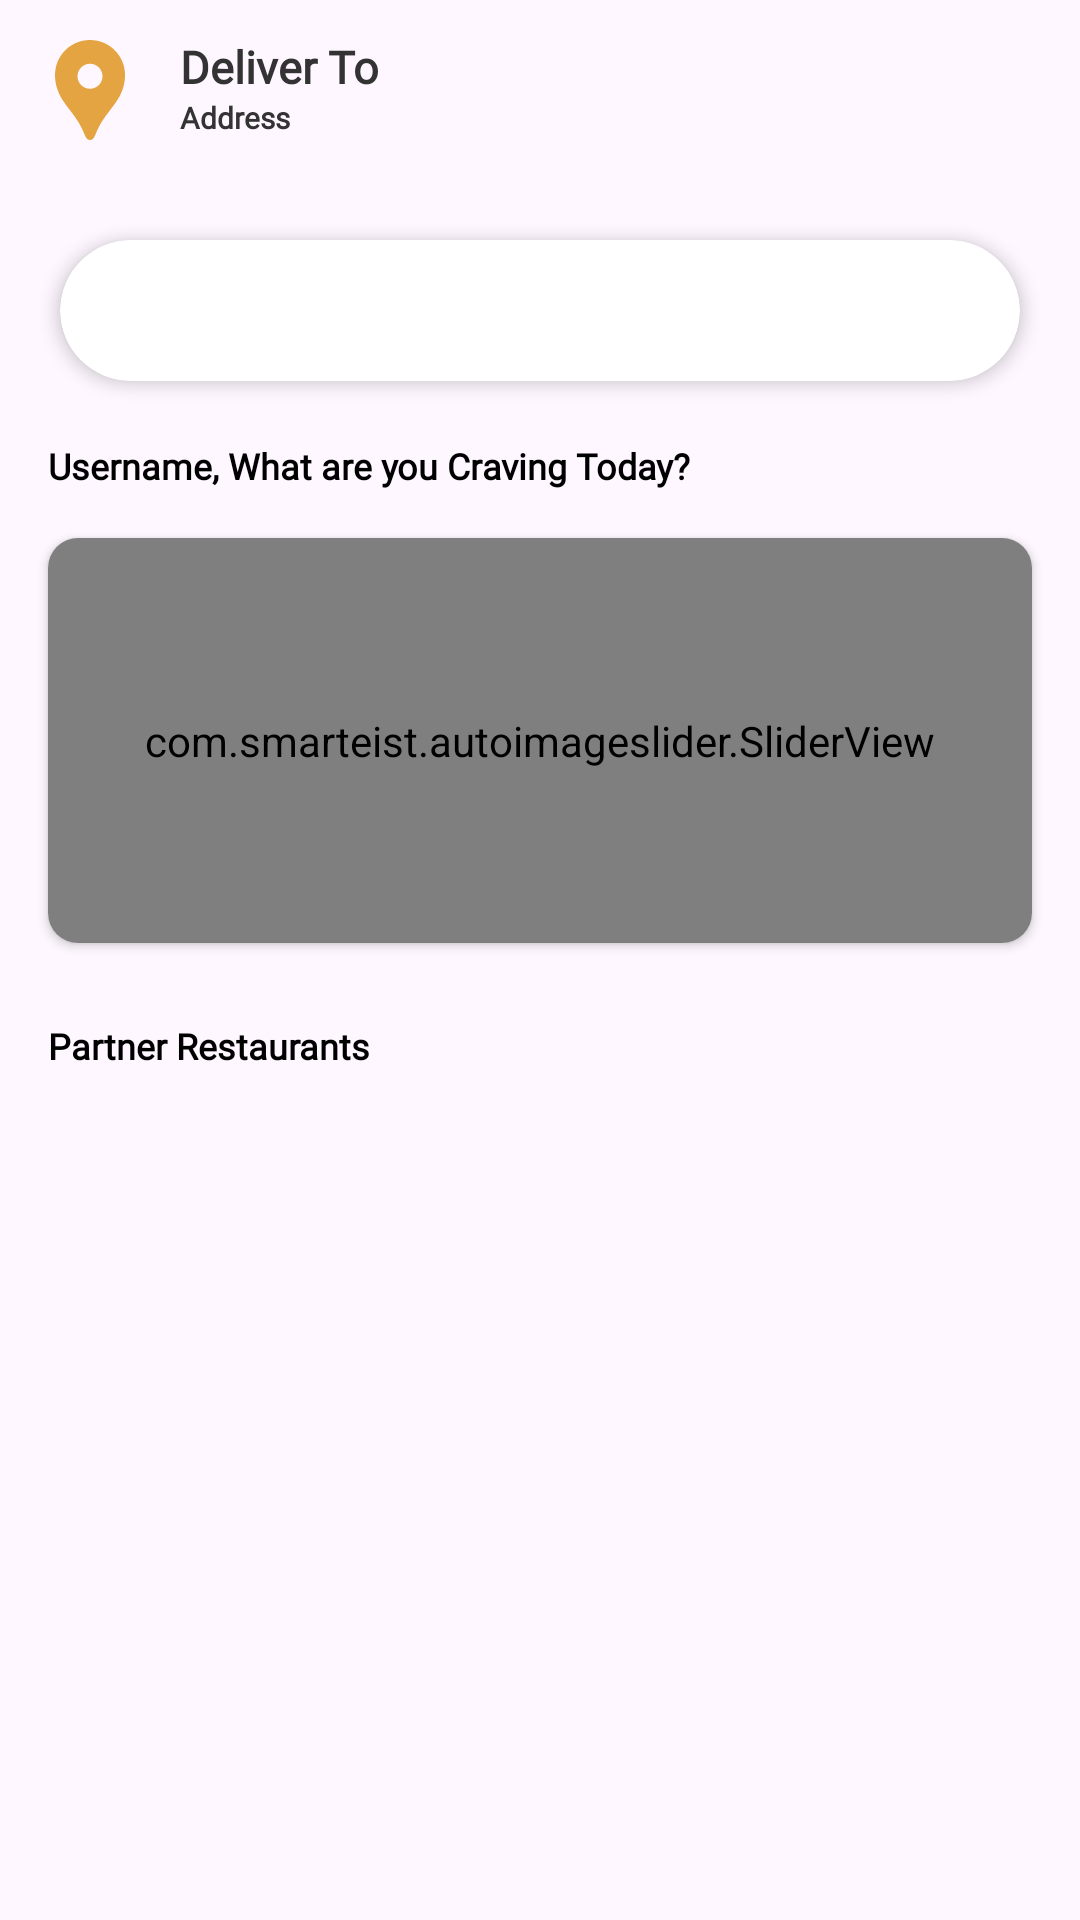

Point at icon controls on the screen. Image size 1080 x 1920, points as point (x, y).
location pin: point (90, 90)
